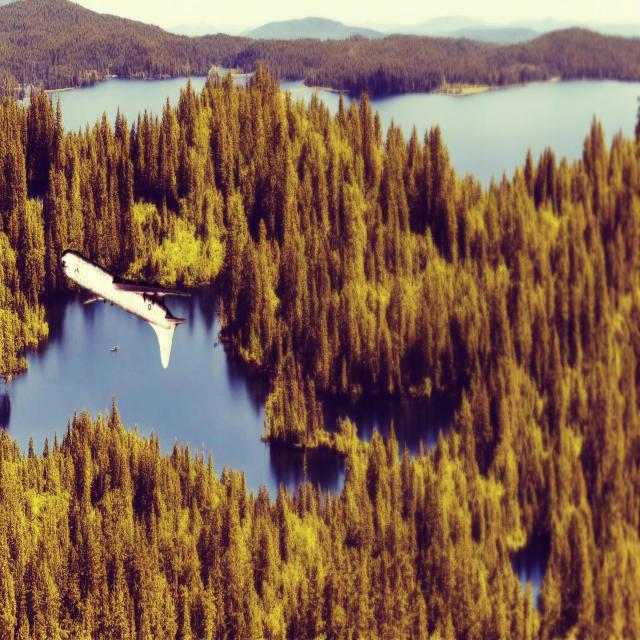airplane: (60, 248, 190, 368)
